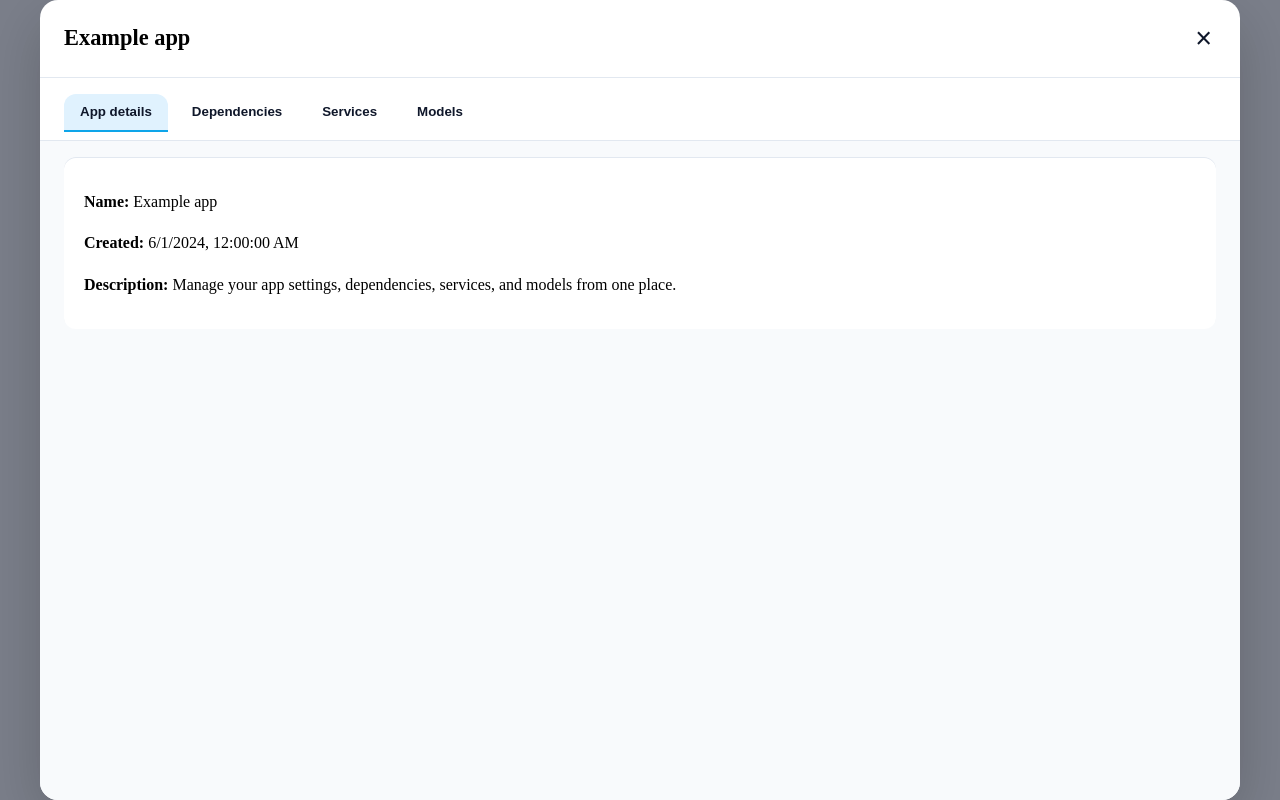
Test: AppModal › creates a service from the services tab
This screenshot has width=1280, height=800.
Click the tab "Services" at [350, 113], box [306,94,393,132]
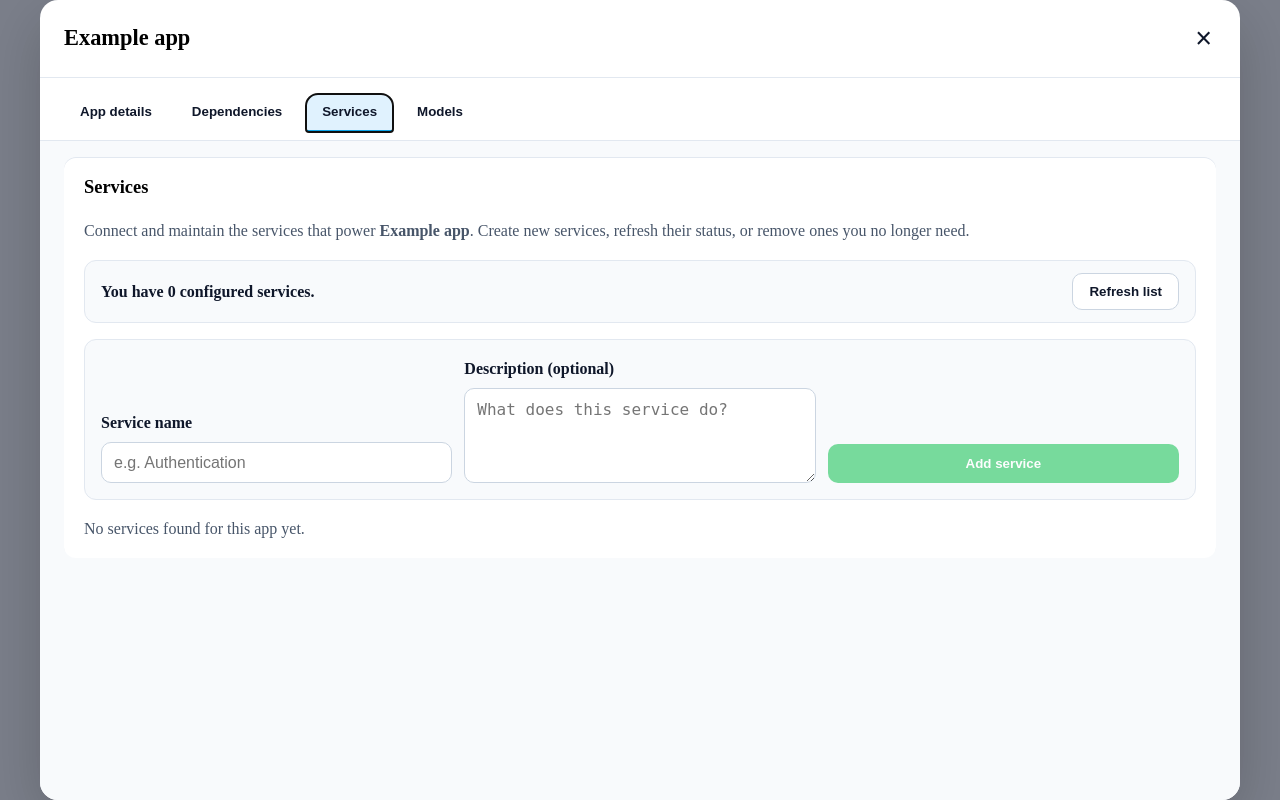
Now the text "No services found for this app yet." is shown, box [84,520,305,537]
Type "API Gateway" into the field labelled "Service name" at [277, 463], box [101,442,452,483]
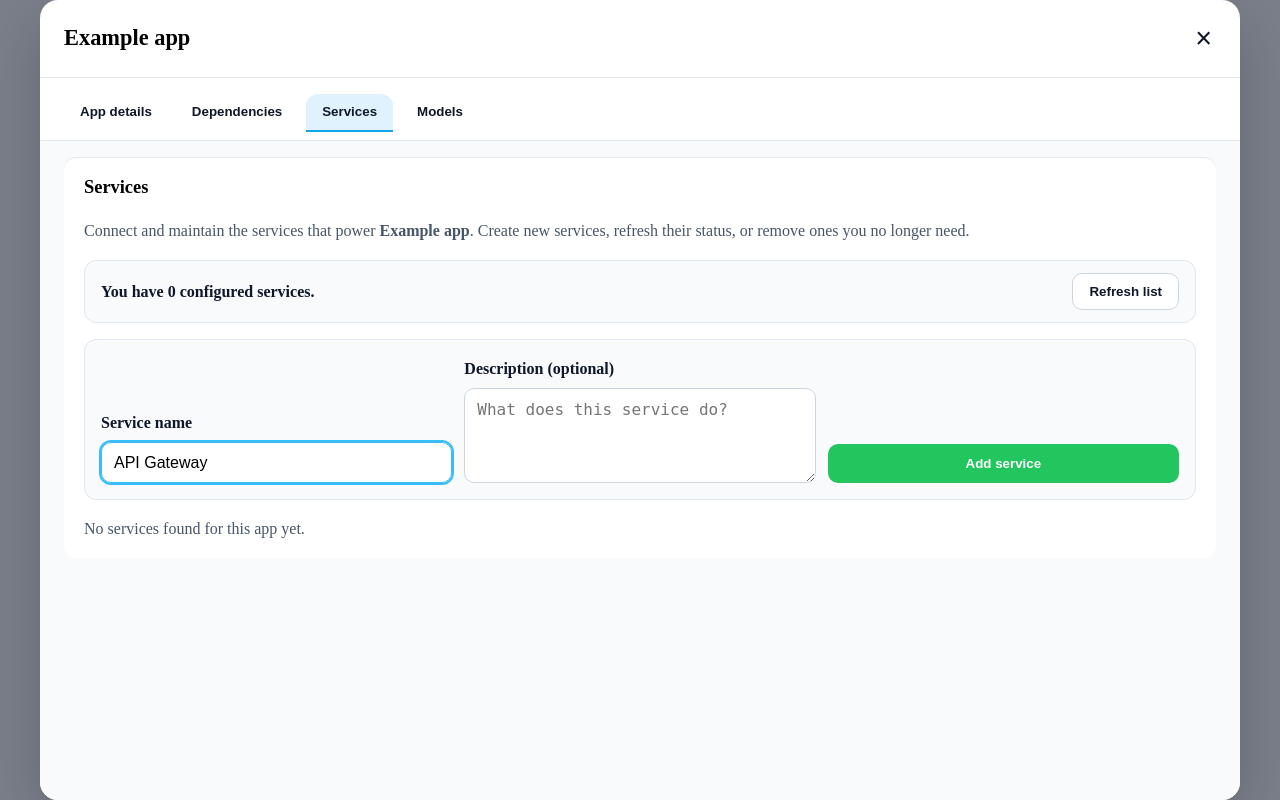
Type "Handles routing" into the text box labelled "Description (optional)" at [640, 436], box [464,388,816,483]
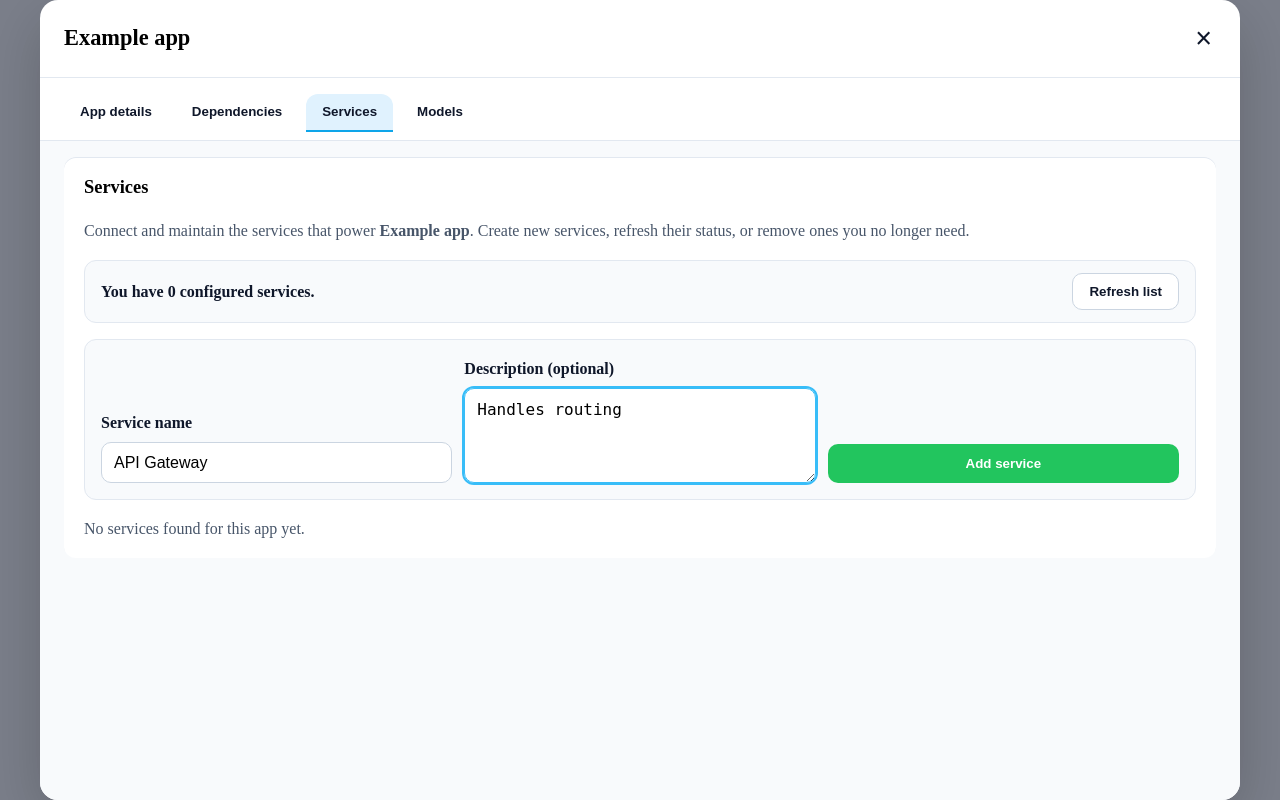
Click the button "Add service" at [1003, 464], box [828,444,1179,483]
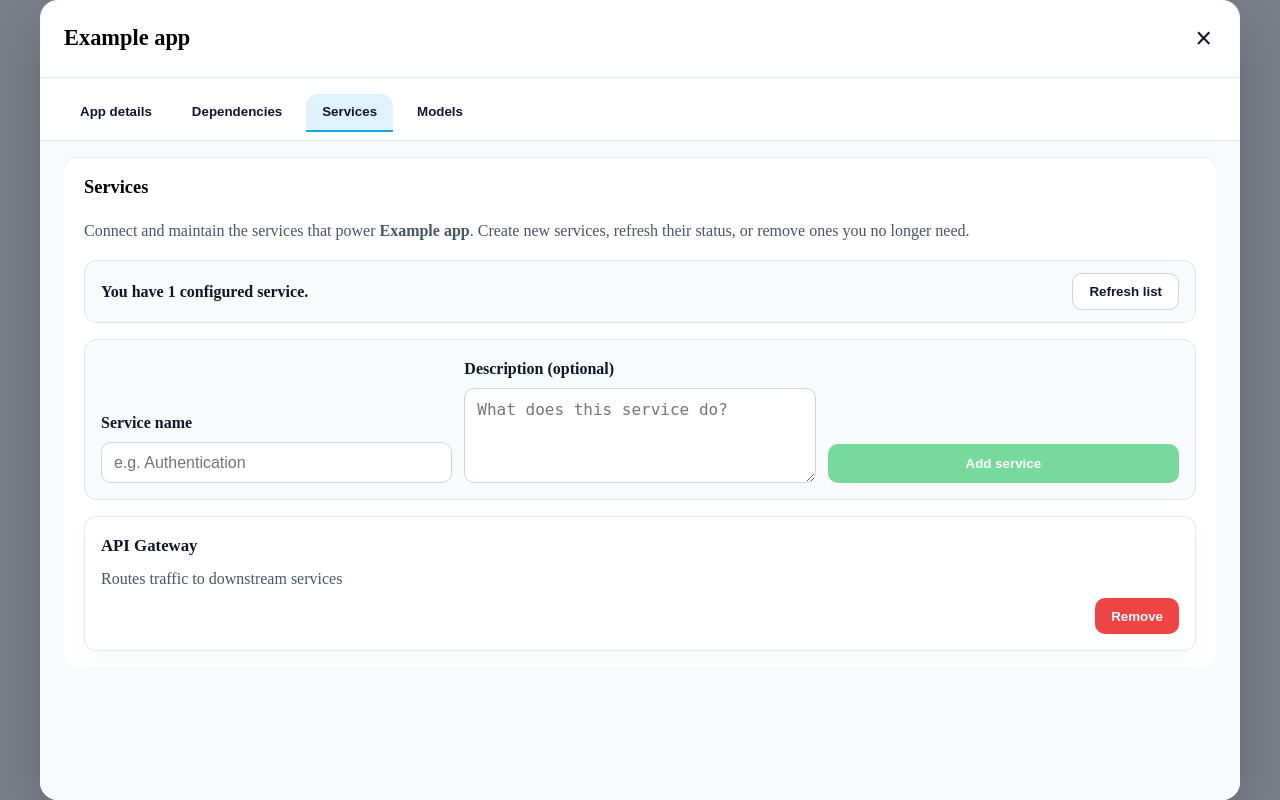
Now the heading "API Gateway" is shown, box [101,536,198,555]
